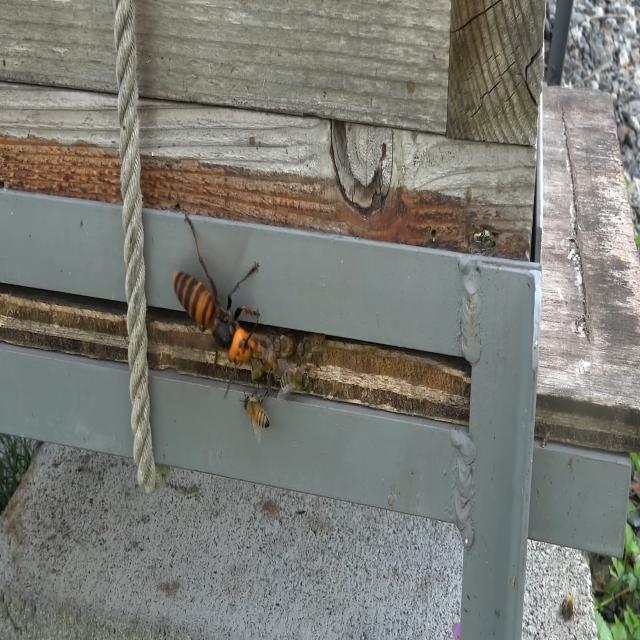Bees: (238, 386, 271, 444), (277, 359, 310, 398), (296, 333, 328, 372)
Hornets: (172, 212, 260, 397)
